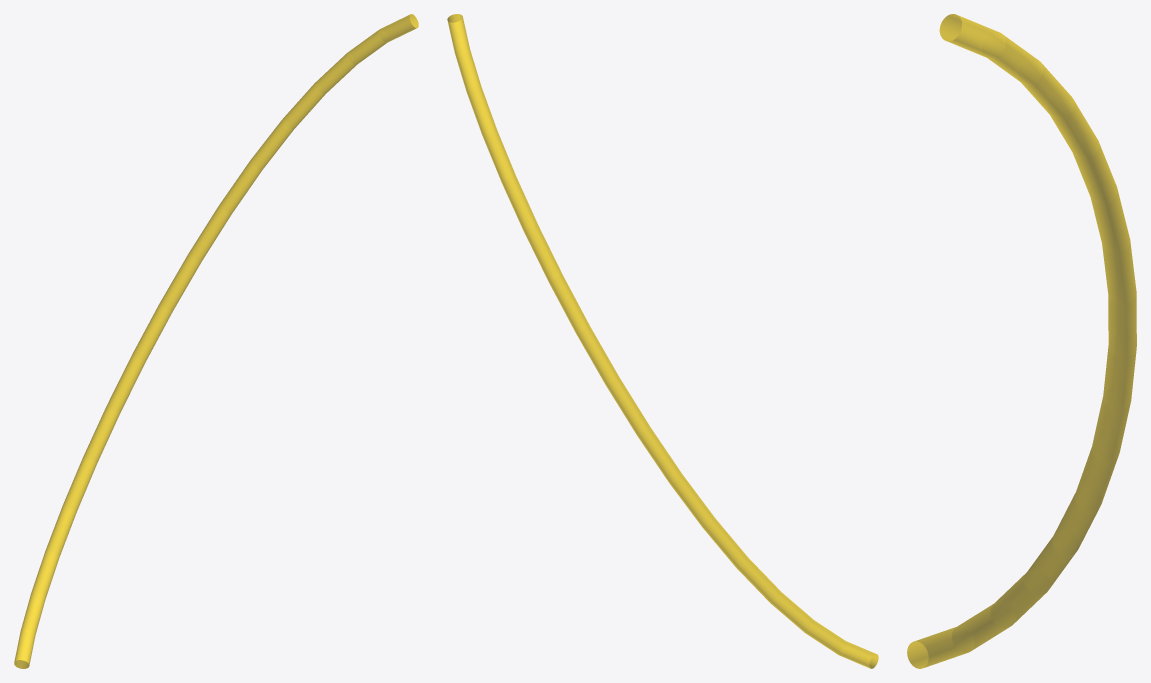
Rendered from Event_100608114_track_58.fbx.
3 renders of one model, left to right at view 1: azimuth 30°, elevation 25°; view 2: azimuth 150°, elevation 25°; view 3: azimuth 270°, elevation 25°, orthographic. The views are drawn at different scales.
Visible parts, largest first — view 1: Model; view 2: Model; view 3: Model.
Part boxes in pixels (x1,y1,x2,y2): Model: [14, 14, 418, 668]; Model: [447, 14, 878, 668]; Model: [907, 14, 1136, 668].
Bounding box in the file's own units: 1.22 × 1.56 × 0.3231.
